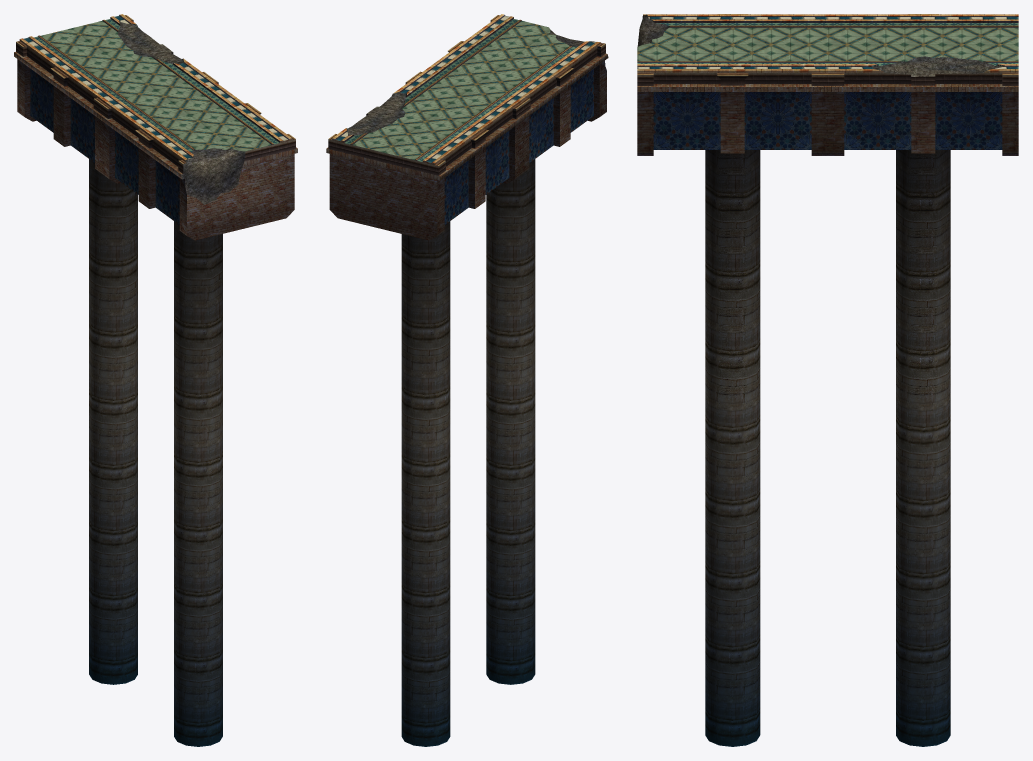
Rendered from BridgeTwoLegs.gltf.
3 renders of one model, left to right at view 1: azimuth 30°, elevation 25°; view 2: azimuth 150°, elevation 25°; view 3: azimuth 270°, elevation 25°, orthographic. The views are drawn at different scales.
Parts seen in each view (by area): view 1: BridgeTwoLegsMesh; view 2: BridgeTwoLegsMesh; view 3: BridgeTwoLegsMesh.
Part boxes in pixels (left/top/right/bottom): BridgeTwoLegsMesh: left=14, top=14, right=297, bottom=746; BridgeTwoLegsMesh: left=326, top=14, right=608, bottom=746; BridgeTwoLegsMesh: left=637, top=14, right=1018, bottom=746.
Bounding box in the file's own units: 7.77 × 40.12 × 20.
5 materials, 5 textured.
